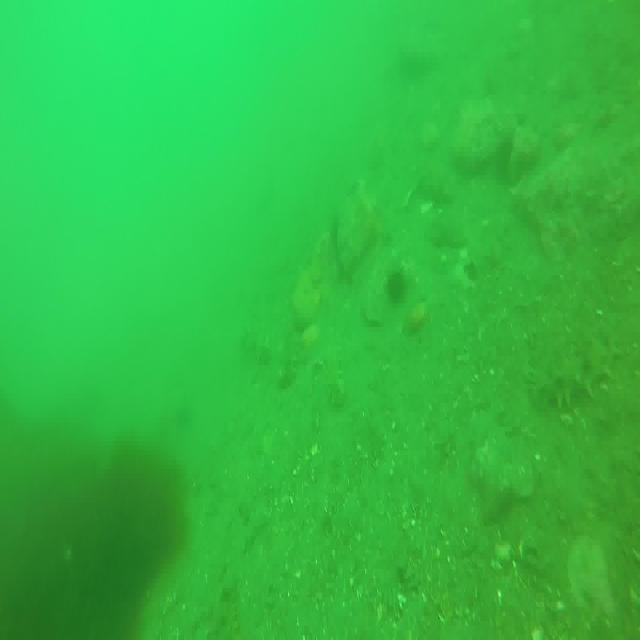echinus: (386, 264, 408, 304)
holothurian: (536, 332, 614, 413)
